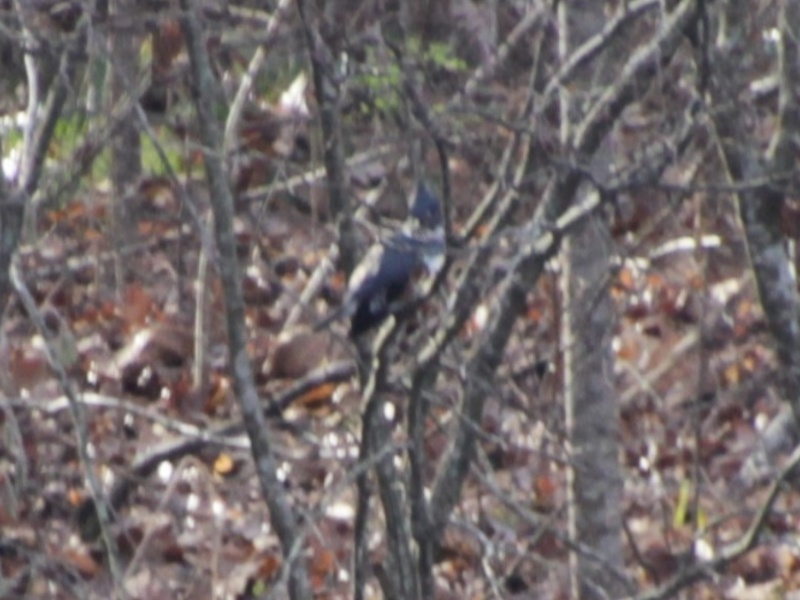kingfisher: (341, 184, 449, 345)
